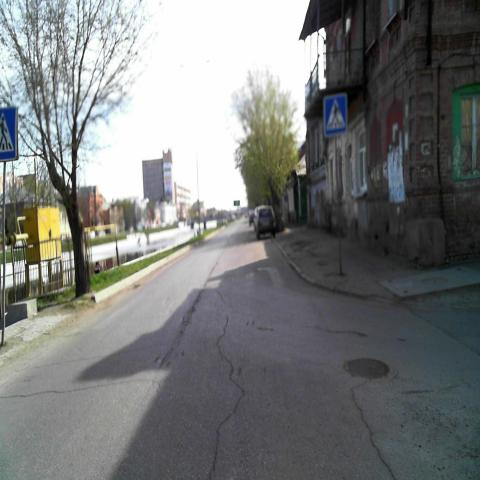5_19_1: (324, 94, 348, 136)
